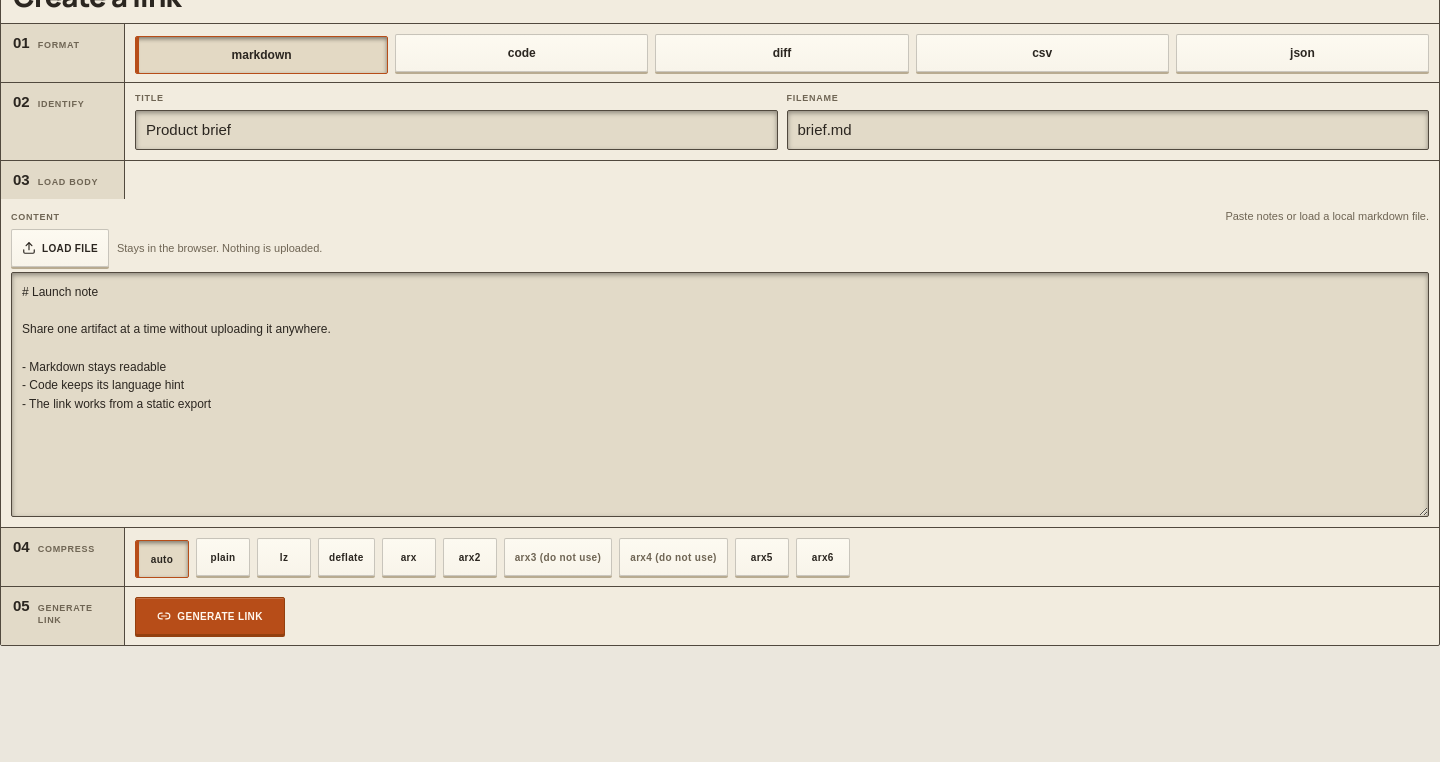
Test: LinkCreator › marks a generated link stale after the draft changes
Click the button "Generate link".
click(210, 616)  # box [135, 597, 285, 635]
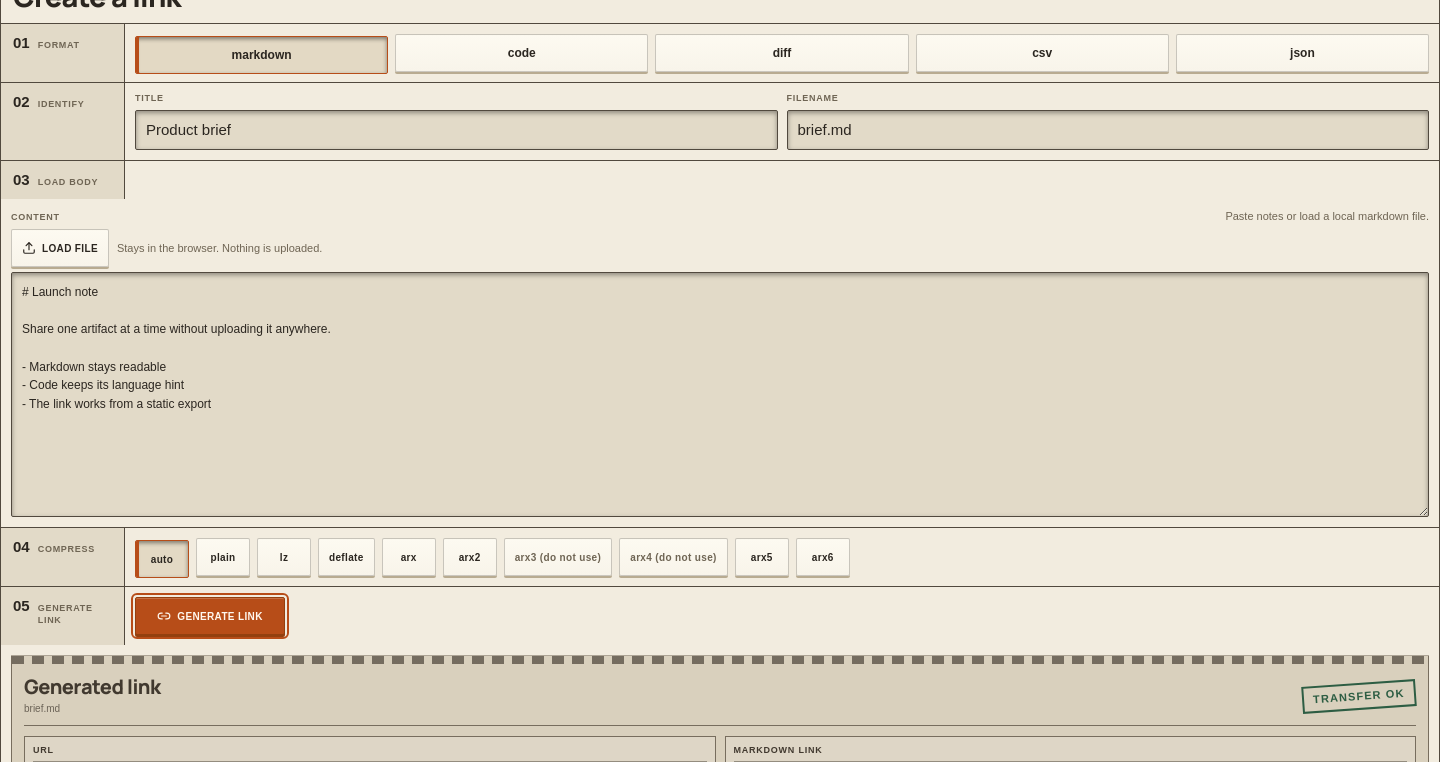
Type " updated" into the field labelled "Title".
click(456, 130); type(" updated")  # box [135, 110, 778, 150]
(page scrolled)
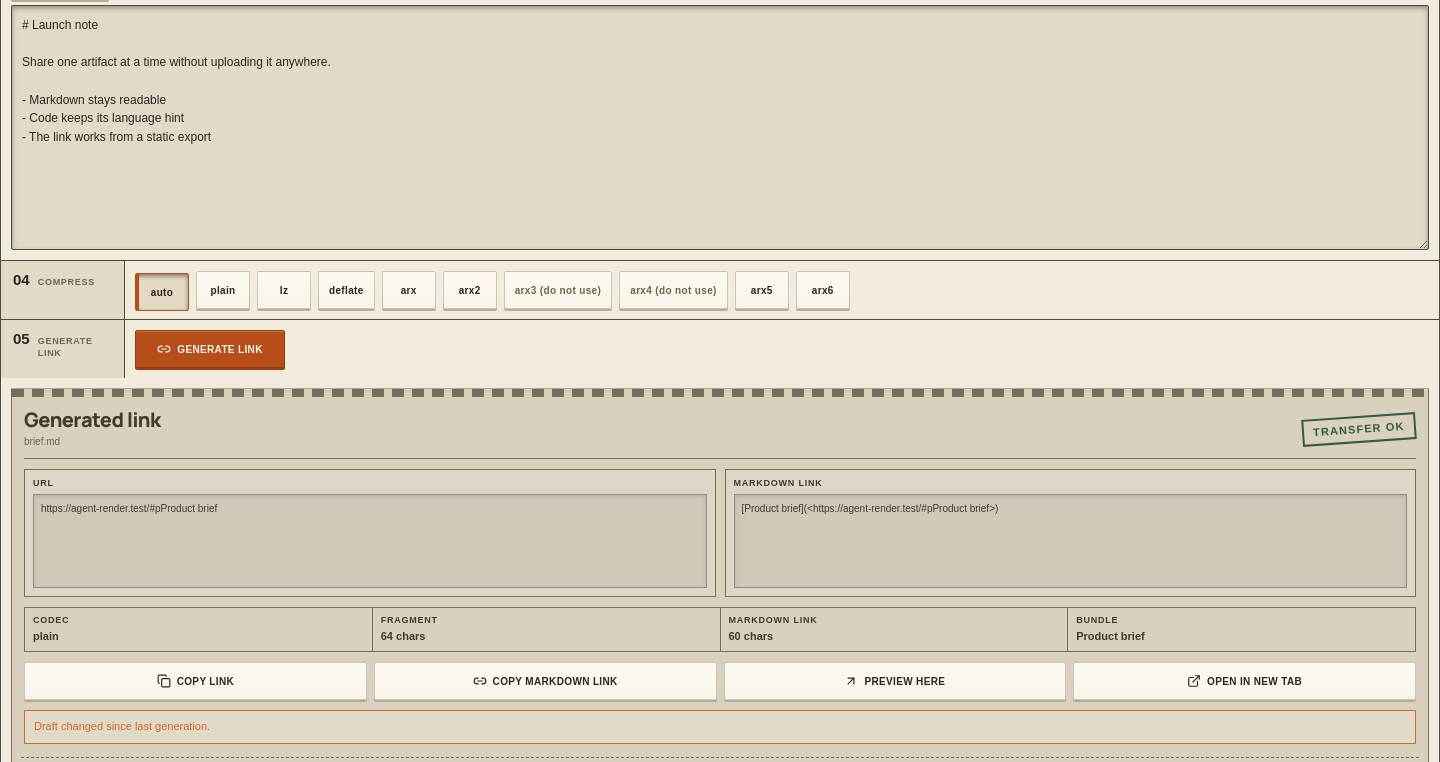
Check: the text "Draft changed since last generation." is shown, box [24, 710, 1416, 744]
